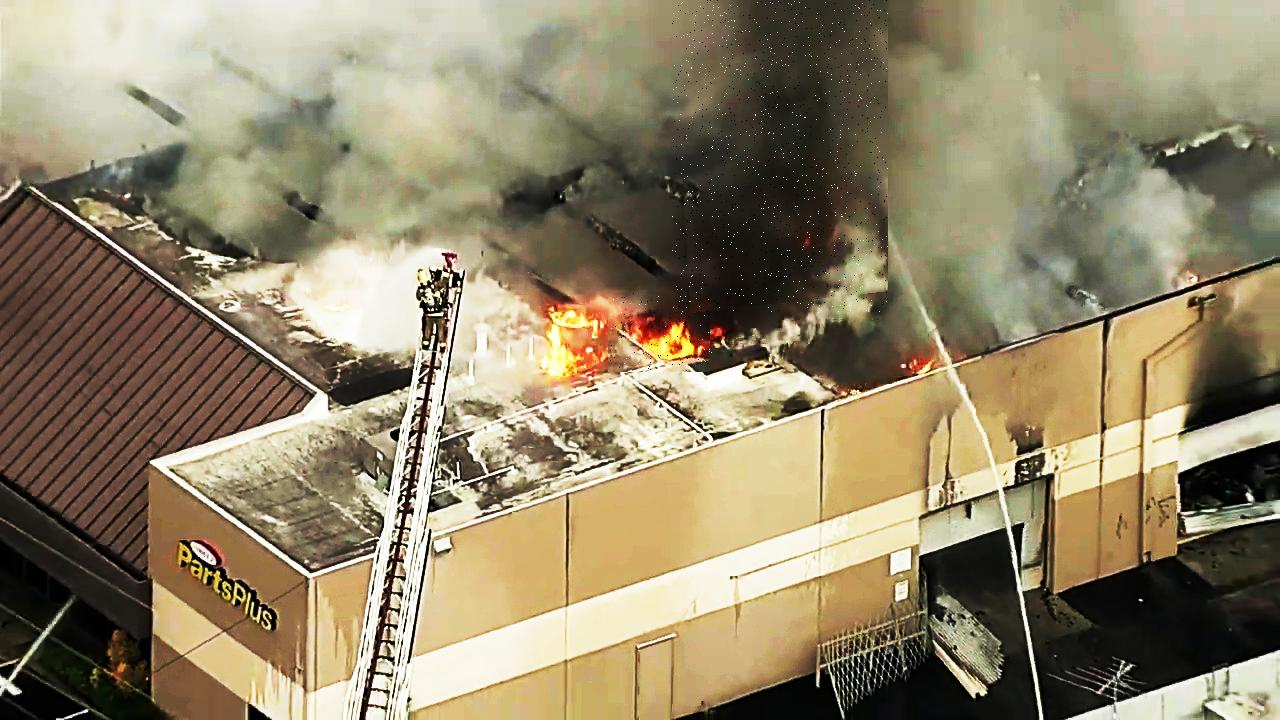fire: (609, 292, 713, 372)
smoke: (672, 0, 888, 313)
